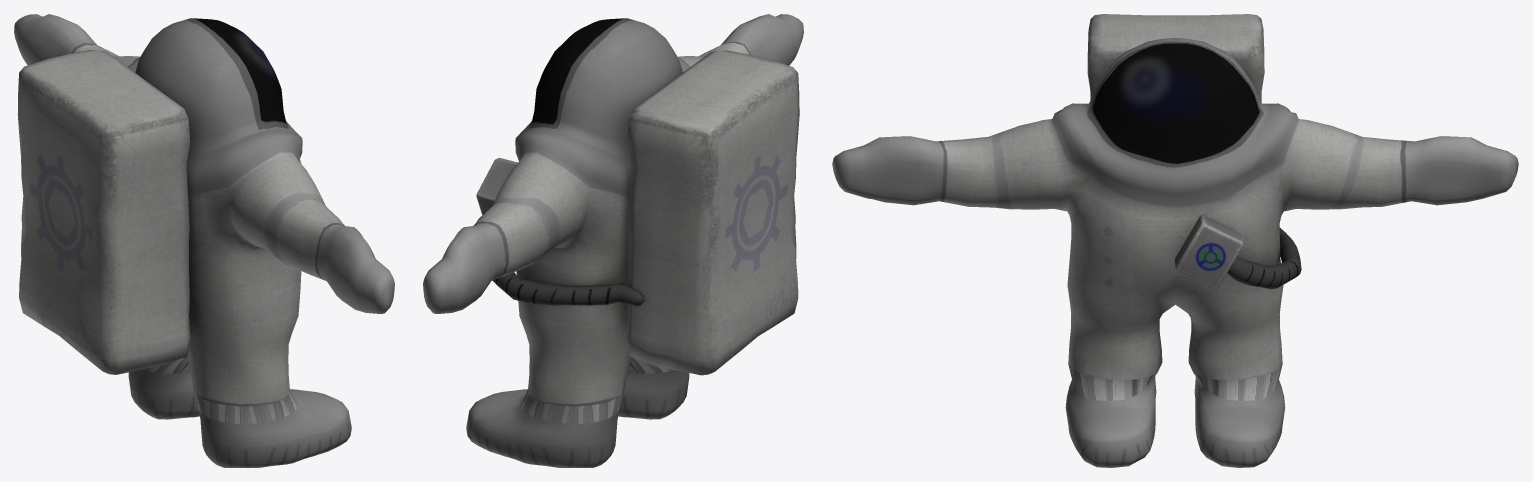
File: Astronaut_Fixed.obj
3 renders of one model, left to right at view 1: azimuth 30°, elevation 25°; view 2: azimuth 150°, elevation 25°; view 3: azimuth 270°, elevation 25°, orthographic. The views are drawn at different scales.
Parts seen in each view (by area): view 1: Body_Mesh_Body; view 2: Body_Mesh_Body; view 3: Body_Mesh_Body.
Boxes of the visible parts, x1=… form: Body_Mesh_Body: x1=14, y1=14, x2=394, y2=467; Body_Mesh_Body: x1=423, y1=14, x2=803, y2=467; Body_Mesh_Body: x1=832, y1=14, x2=1518, y2=467.
Size of the model in its own units: 121 by 187 by 303.
